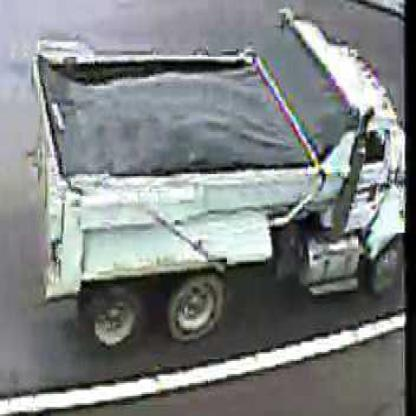truck: (33, 14, 404, 329)
